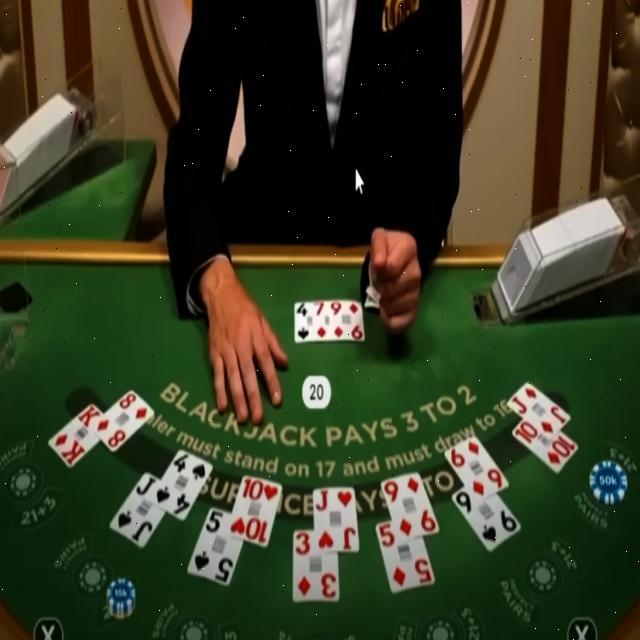Card-10: (226, 474, 282, 549), (512, 419, 579, 475)
Card-3: (293, 529, 339, 602)
Card-4: (148, 448, 214, 521), (295, 300, 314, 342)
Card-5: (375, 520, 436, 595), (187, 505, 243, 585)
Card-6: (444, 435, 510, 504)
Card-7: (313, 300, 331, 341)
Card-8: (90, 389, 154, 453)
Card-9: (451, 486, 522, 554), (381, 471, 440, 544), (329, 299, 365, 342)
Card-J: (109, 470, 165, 549), (508, 381, 571, 440), (314, 487, 359, 554)
Card-K: (48, 402, 103, 468)
